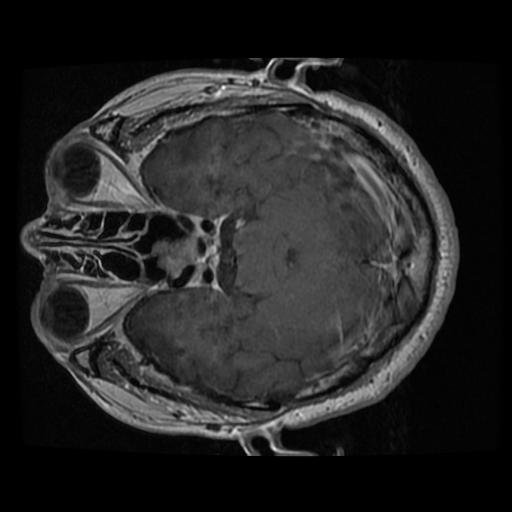pituitary tumour: (157, 238, 195, 278)
